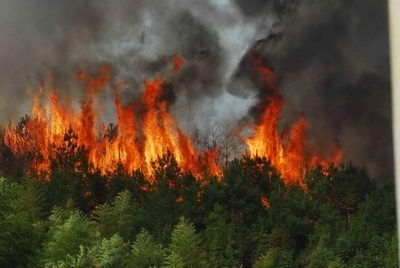fire: (2, 60, 223, 191), (241, 66, 346, 188)
